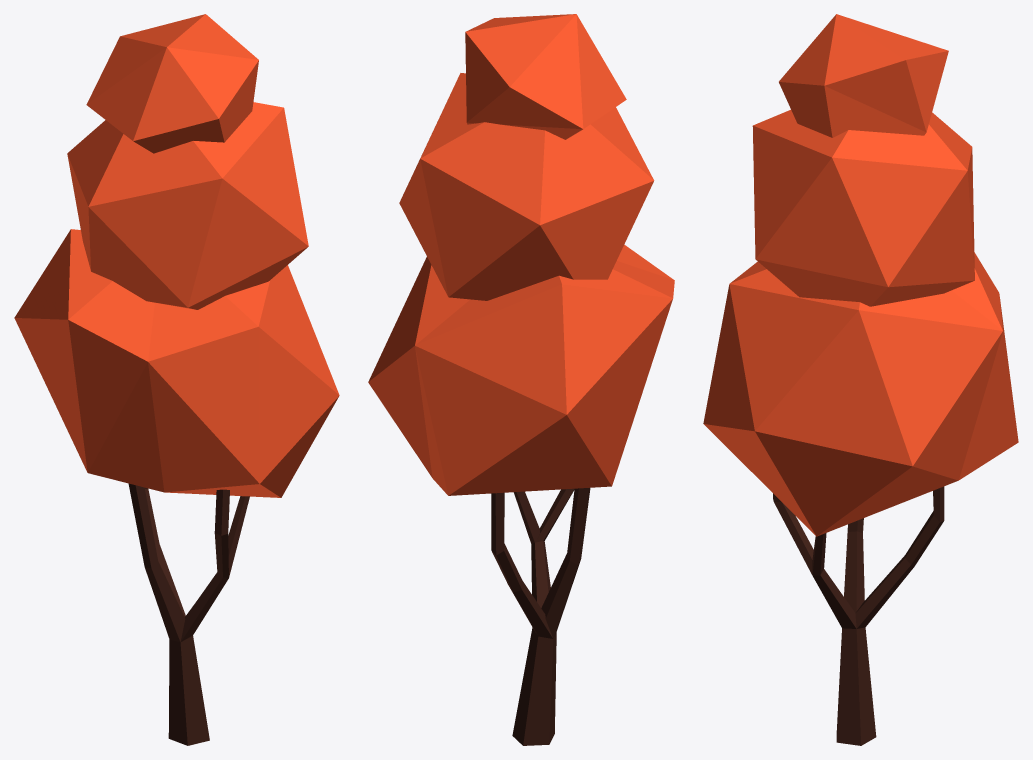
File: MeadowAutumnTree1.fbx
The picture shows the model from 3 angles, left to right: view 1: azimuth 30°, elevation 25°; view 2: azimuth 150°, elevation 25°; view 3: azimuth 270°, elevation 25°; orthographic projection. The views are drawn at different scales.
Parts seen in each view (by area): view 1: MeadowAutumnTree1; view 2: MeadowAutumnTree1; view 3: MeadowAutumnTree1.
Boxes of the visible parts, box(x1,y1,x2,y2) form: MeadowAutumnTree1: box(14, 14, 339, 745); MeadowAutumnTree1: box(368, 14, 674, 745); MeadowAutumnTree1: box(703, 14, 1018, 745).
Bounding box in the file's own units: 3.49 × 9 × 3.64.
